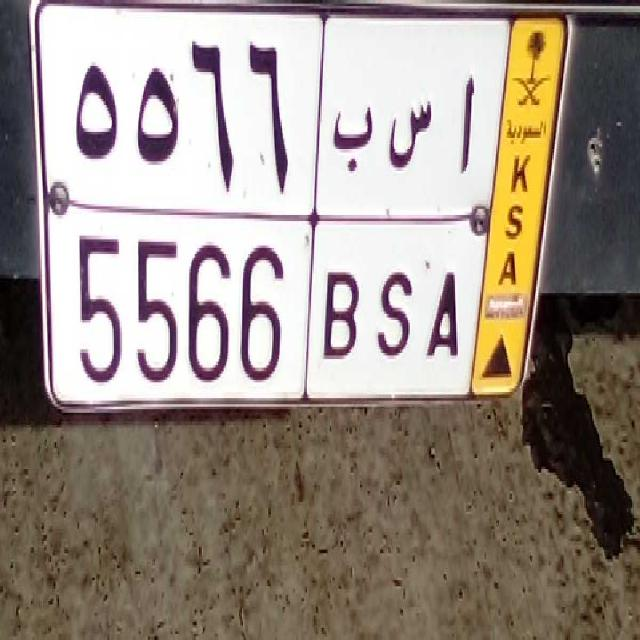license_plate: (59, 202, 473, 407)
